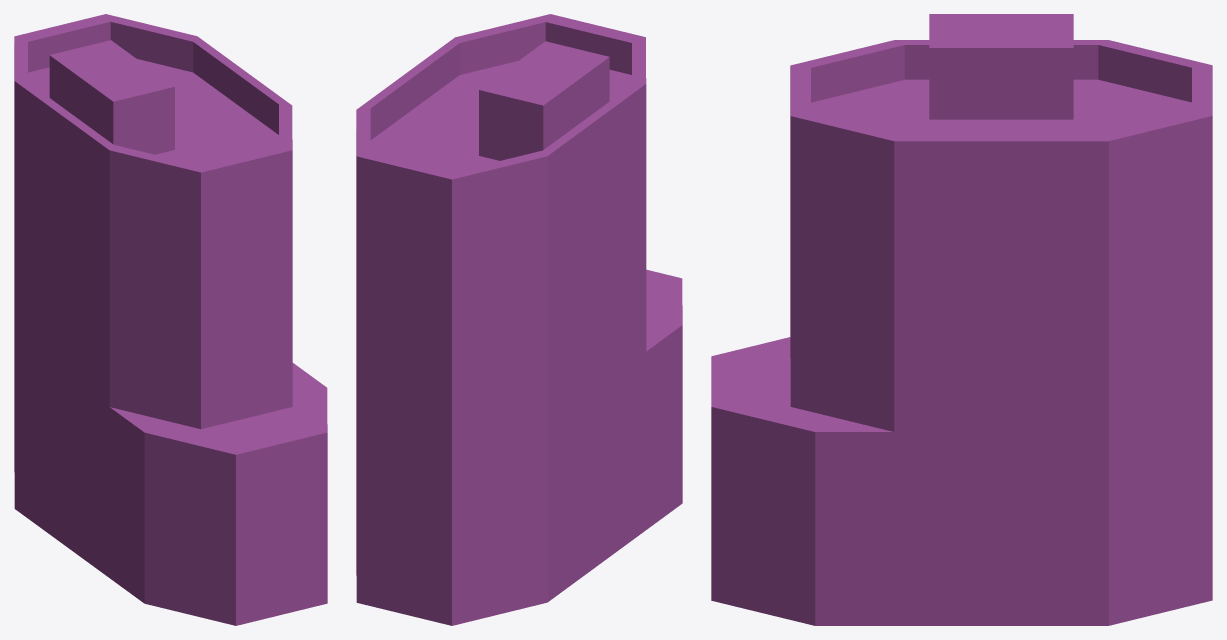
Rendered from HighDensity_04.fbx.
3 renders of one model, left to right at view 1: azimuth 30°, elevation 25°; view 2: azimuth 150°, elevation 25°; view 3: azimuth 270°, elevation 25°, orthographic. The views are drawn at different scales.
Visible parts, largest first — view 1: polySurface6; view 2: polySurface6; view 3: polySurface6.
Boxes of the visible parts, left/top/right/bottom form: polySurface6: left=14, top=14, right=327, bottom=625; polySurface6: left=356, top=14, right=682, bottom=625; polySurface6: left=711, top=14, right=1212, bottom=625.
Bounding box in the file's own units: 2.43 × 5.84 × 5.09.
